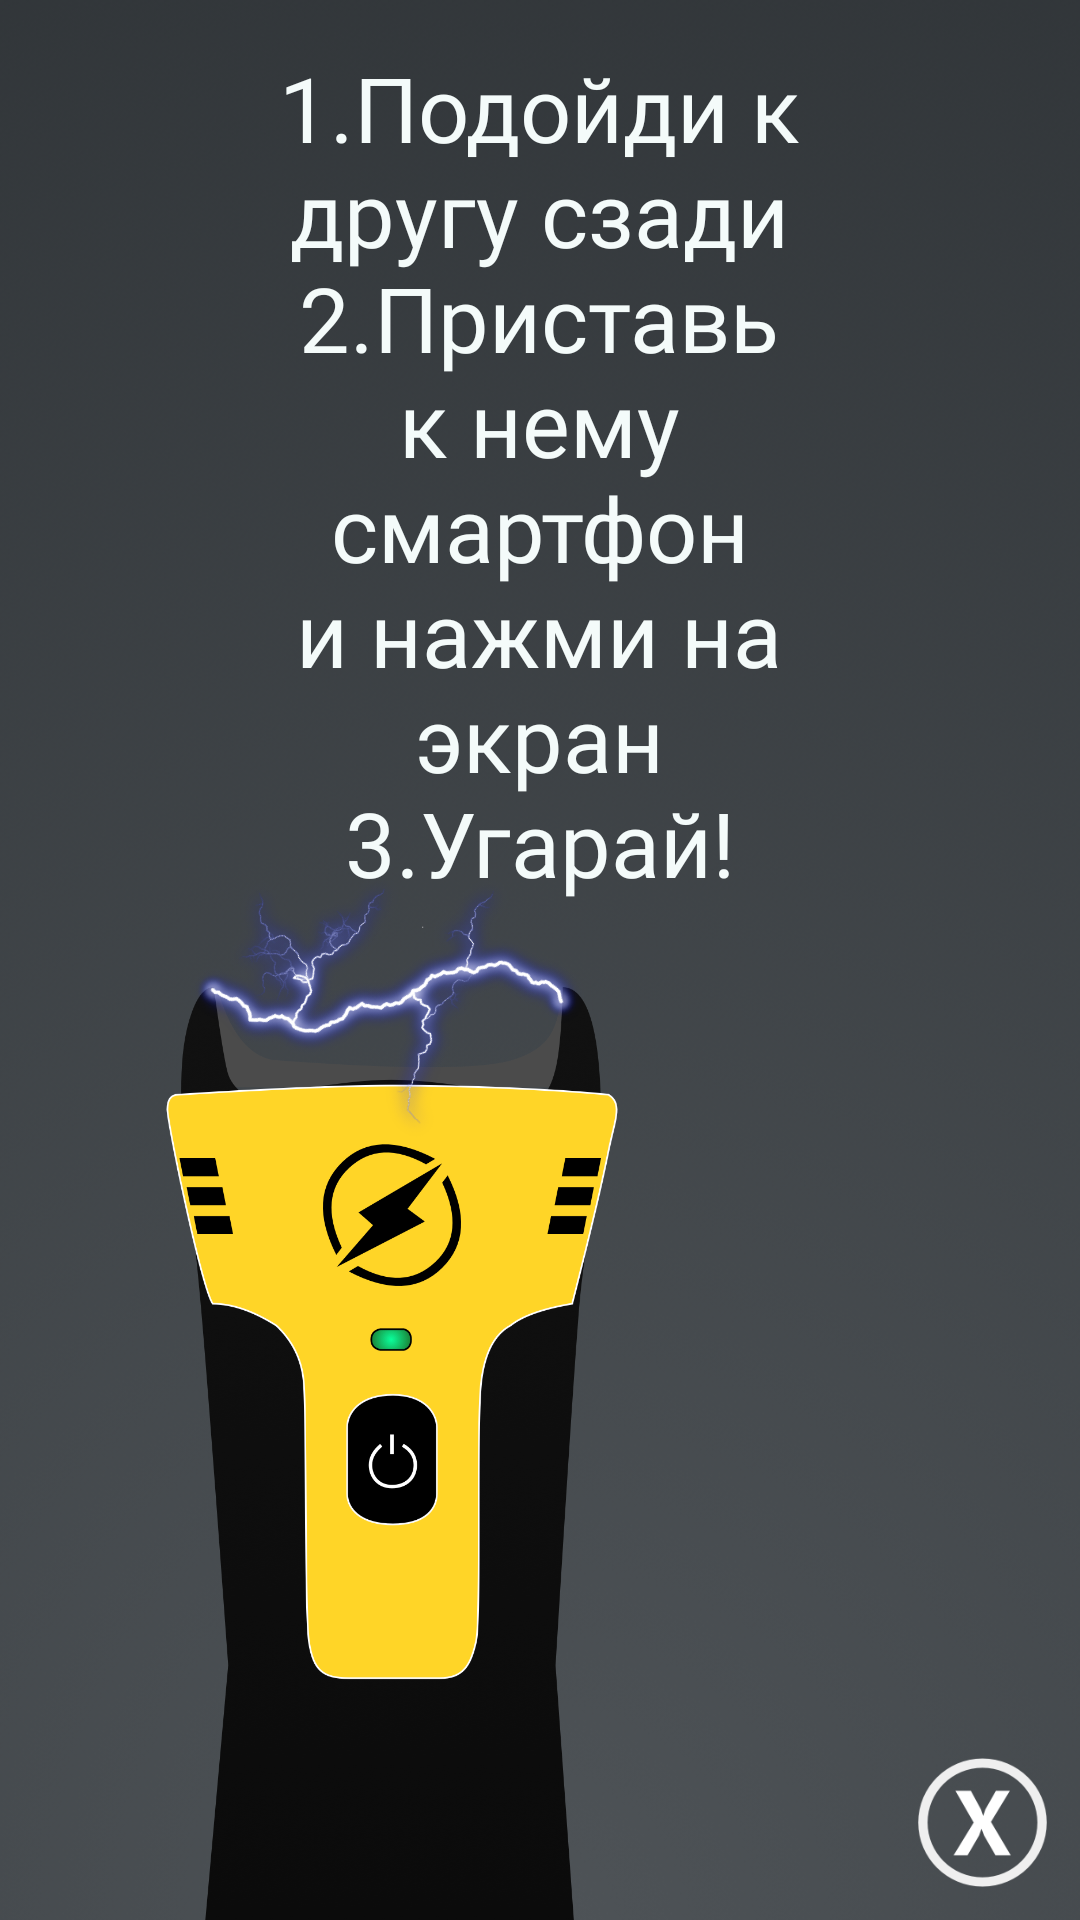

Icon bounding boxes for this 1080 x 1920 phone screenshot, format box=[x1, y1, x2, y2]:
close: box=[918, 1758, 1047, 1887]
